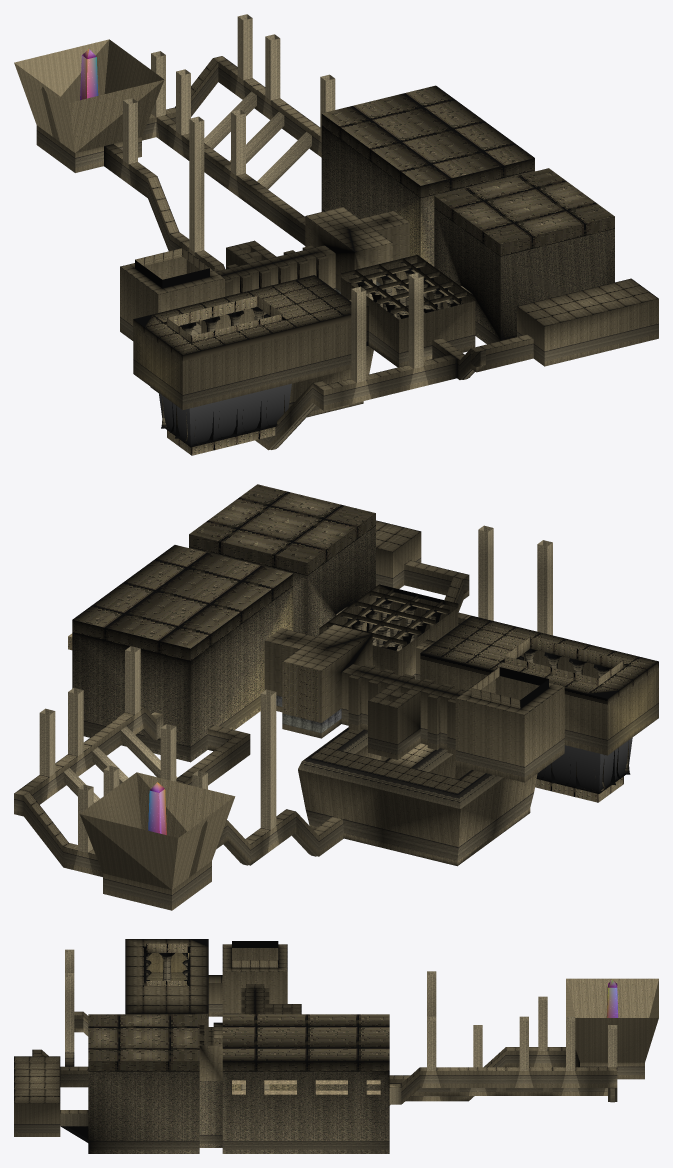
Rendered from egyptian.glb.
3 renders of one model, top to bottom at view 1: azimuth 30°, elevation 25°; view 2: azimuth 150°, elevation 25°; view 3: azimuth 270°, elevation 25°, orthographic. The views are drawn at different scales.
Parts seen in each view (by area): view 1: primary_Room0C, primary_Room03, primary_Room0A, primary_Room1F, primary_Room13, primary_Room05, primary_Room15, primary_Room0E, primary_Room01, primary_Room29, primary_Room08, primary_Room07 (+15 smaller); view 2: primary_Room0A, primary_Room19, primary_Room03, primary_Room0C, primary_Room1F, primary_Room01, primary_Room08, primary_Room07, primary_Room05, primary_Room0E, primary_Room25, primary_Room1C (+13 smaller); view 3: primary_Room0A, primary_Room0C, primary_Room1F, primary_Room03, primary_Room01, primary_Room13, primary_Room25, primary_Room0B, primary_Room29, primary_Room2C, primary_Room1E, primary_Room08 (+8 smaller).
Boxes of the visible parts, left/top/right/bottom form: primary_Room0C: left=434, top=168, right=614, bottom=344; primary_Room03: left=133, top=275, right=351, bottom=409; primary_Room0A: left=321, top=85, right=534, bottom=266; primary_Room1F: left=14, top=39, right=164, bottom=172; primary_Room13: left=517, top=278, right=658, bottom=366; primary_Room05: left=341, top=255, right=475, bottom=367; primary_Room15: left=337, top=272, right=456, bottom=405; primary_Room0E: left=158, top=383, right=291, bottom=455; primary_Room01: left=120, top=248, right=224, bottom=340; primary_Room29: left=167, top=69, right=297, bottom=233; primary_Room08: left=200, top=240, right=335, bottom=325; primary_Room07: left=305, top=207, right=392, bottom=307; primary_Room0A: left=68, top=545, right=293, bottom=762; primary_Room19: left=298, top=727, right=537, bottom=866; primary_Room03: left=420, top=615, right=658, bottom=755; primary_Room0C: left=189, top=484, right=375, bottom=636; primary_Room1F: left=79, top=772, right=235, bottom=910; primary_Room01: left=455, top=667, right=564, bottom=782; primary_Room08: left=341, top=664, right=467, bottom=759; primary_Room07: left=282, top=624, right=372, bottom=738; primary_Room05: left=319, top=584, right=458, bottom=679; primary_Room0E: left=535, top=737, right=632, bottom=802; primary_Room25: left=31, top=688, right=109, bottom=803; primary_Room1C: left=245, top=689, right=296, bottom=865; primary_Room0A: left=222, top=1014, right=389, bottom=1153; primary_Room0C: left=61, top=1014, right=199, bottom=1153; primary_Room1F: left=566, top=978, right=658, bottom=1079; primary_Room03: left=125, top=939, right=208, bottom=1045; primary_Room01: left=222, top=941, right=287, bottom=1014; primary_Room13: left=14, top=1056, right=60, bottom=1136; primary_Room25: left=478, top=1016, right=589, bottom=1087; primary_Room0B: left=199, top=1045, right=222, bottom=1147; primary_Room29: left=389, top=1025, right=589, bottom=1095; primary_Room2C: left=420, top=1016, right=477, bottom=1087; primary_Room1E: left=506, top=996, right=579, bottom=1067; primary_Room08: left=241, top=984, right=301, bottom=1014.
Size of the model in its own units: 91.69 by 41.65 by 145.
Materials: 15 (14 with a texture image).
